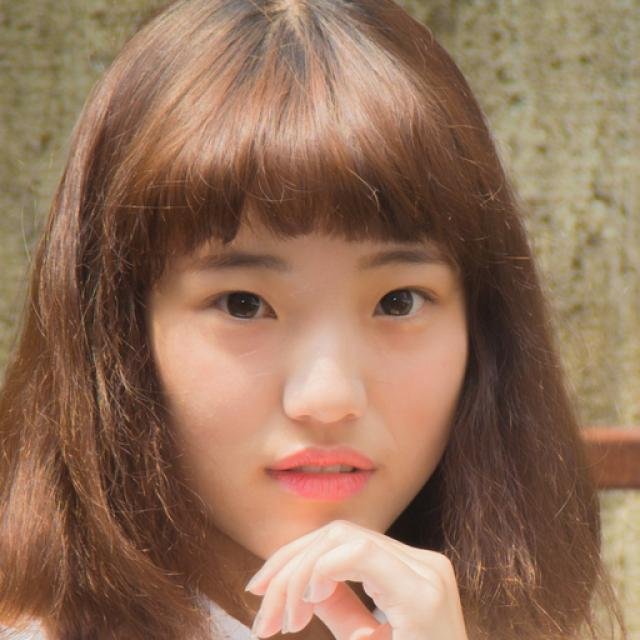happy: (144, 181, 474, 574)
